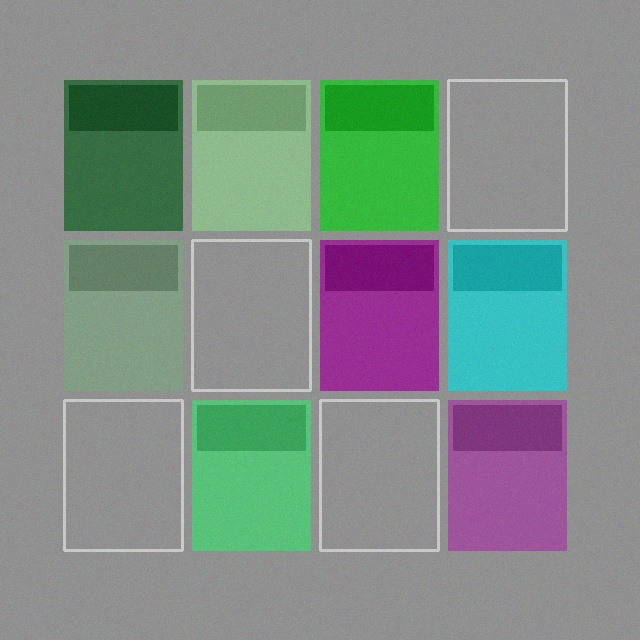space-empty: (448, 80, 566, 230), (192, 240, 310, 390), (64, 400, 182, 550), (320, 400, 438, 550)
space-occupied: (64, 80, 182, 230), (192, 80, 310, 230), (320, 80, 438, 230), (64, 240, 182, 390), (320, 240, 438, 390), (448, 240, 566, 390), (192, 400, 310, 550), (448, 400, 566, 550)
